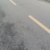others: (9, 1, 50, 33)
